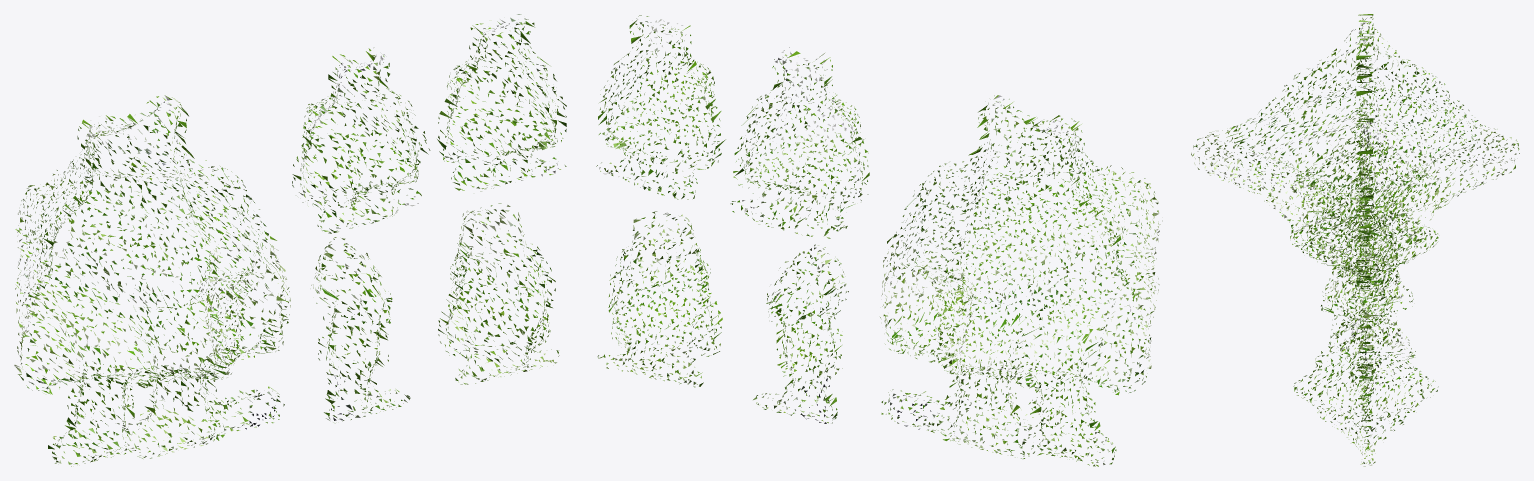
Rendered from ourson vrac équipe.glb.
The picture shows the model from 3 angles, left to right: view 1: azimuth 30°, elevation 25°; view 2: azimuth 150°, elevation 25°; view 3: azimuth 270°, elevation 25°; orthographic projection. The views are drawn at different scales.
Parts seen in each view (by area): view 1: Modele mobile V4.4; view 2: Modele mobile V4.4; view 3: Modele mobile V4.4.
Part boxes in pixels (<box>): Modele mobile V4.4: <box>14,14,566,466</box>; Modele mobile V4.4: <box>596,15,1162,466</box>; Modele mobile V4.4: <box>1191,14,1519,466</box>.
Bounding box in the file's own units: 0.9461 × 0.6044 × 0.6295.
Materials: 1 (1 with a texture image).
